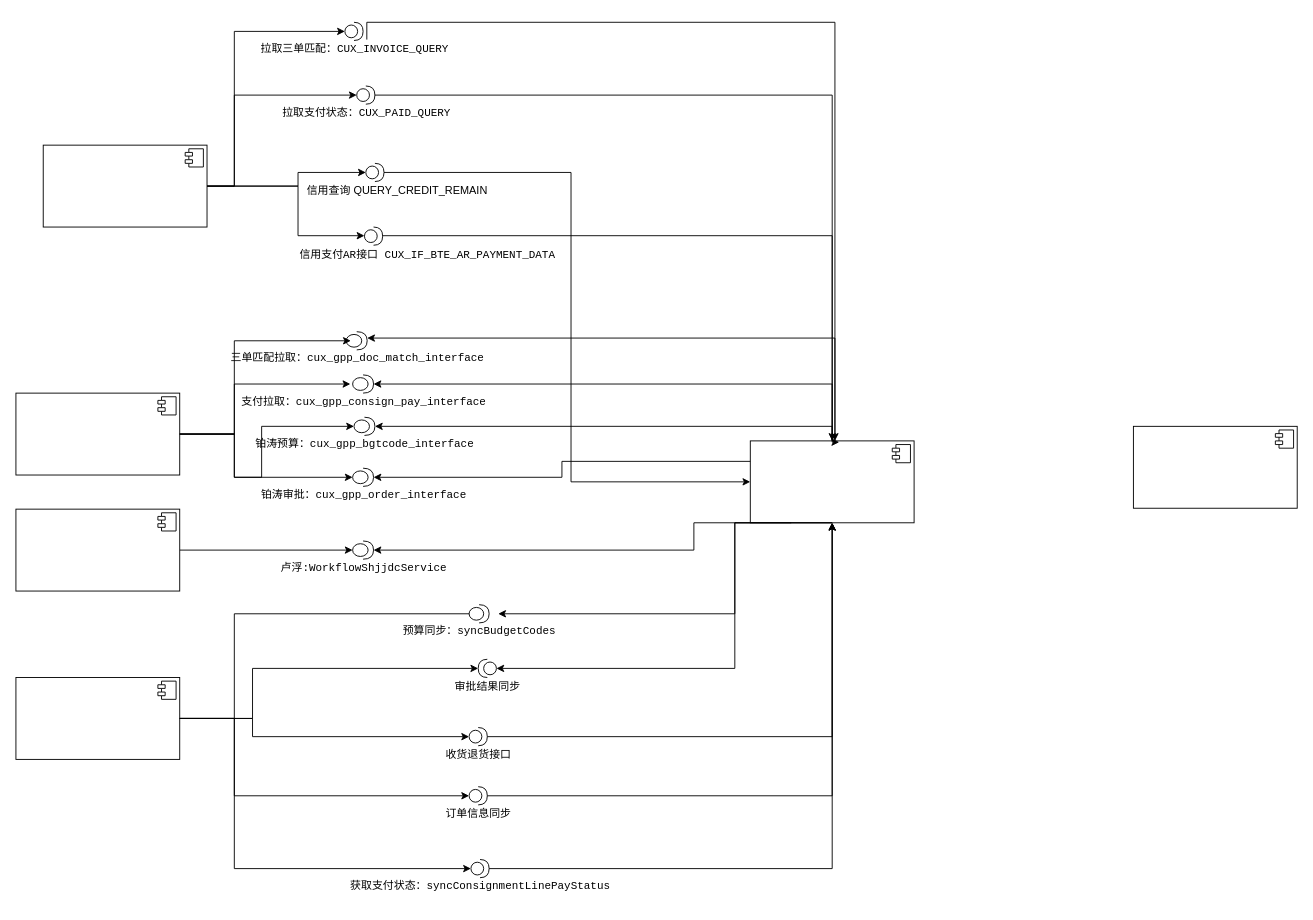
The diagram is 1313 pixels wide and 920 high, and some of its shapes have lost their labels. Each missing label, with the centre of its shape:
B2B平台: the point at 831,481
GPP财务: the point at 124,185
OA 审批: the point at 97,549
SRM: the point at 1214,466
卢浮维也纳EBS（GPP交换平台）: the point at 97,718
铂涛费控: the point at 97,433
